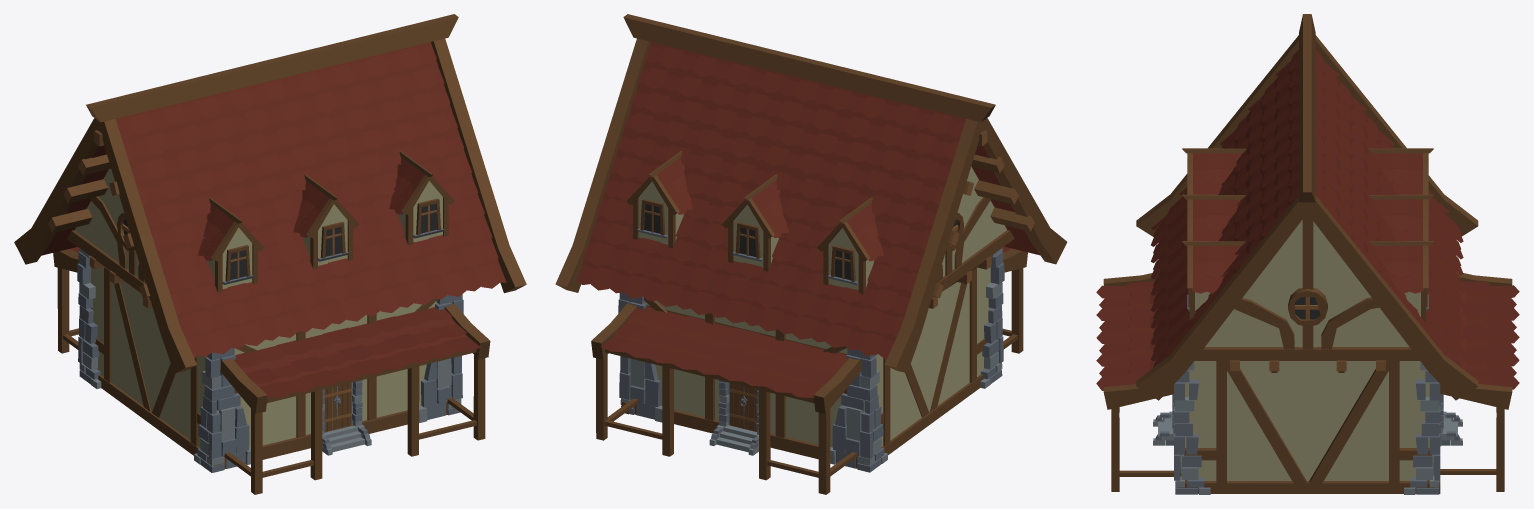
Rendered from Inn.glb.
The picture shows the model from 3 angles, left to right: view 1: azimuth 30°, elevation 25°; view 2: azimuth 150°, elevation 25°; view 3: azimuth 270°, elevation 25°; orthographic projection.
Parts seen in each view (by area): view 1: Inn; view 2: Inn; view 3: Inn.
Boxes of the visible parts, x1,y1,x2,y2 form: Inn: (14,14,526,494); Inn: (555,14,1067,494); Inn: (1096,14,1519,494).
Bounding box in the file's own units: 4.03 × 3.49 × 4.02.
